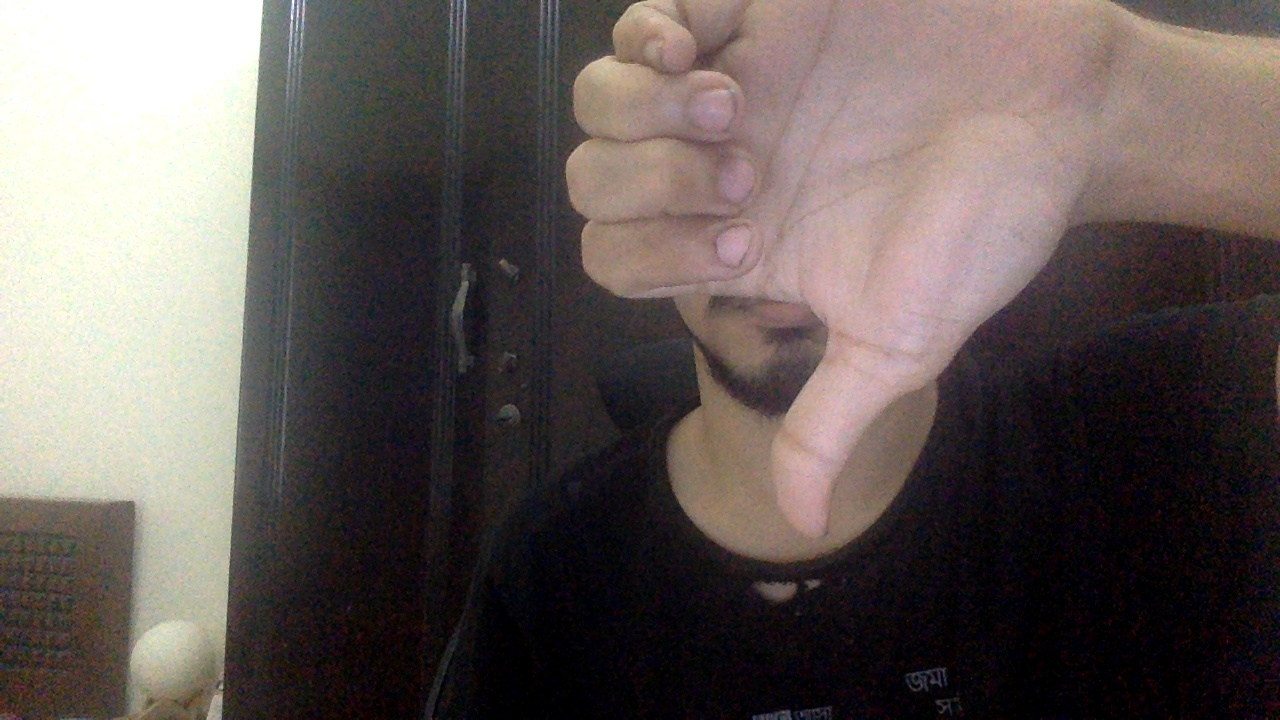bad: (566, 2, 1115, 538)
